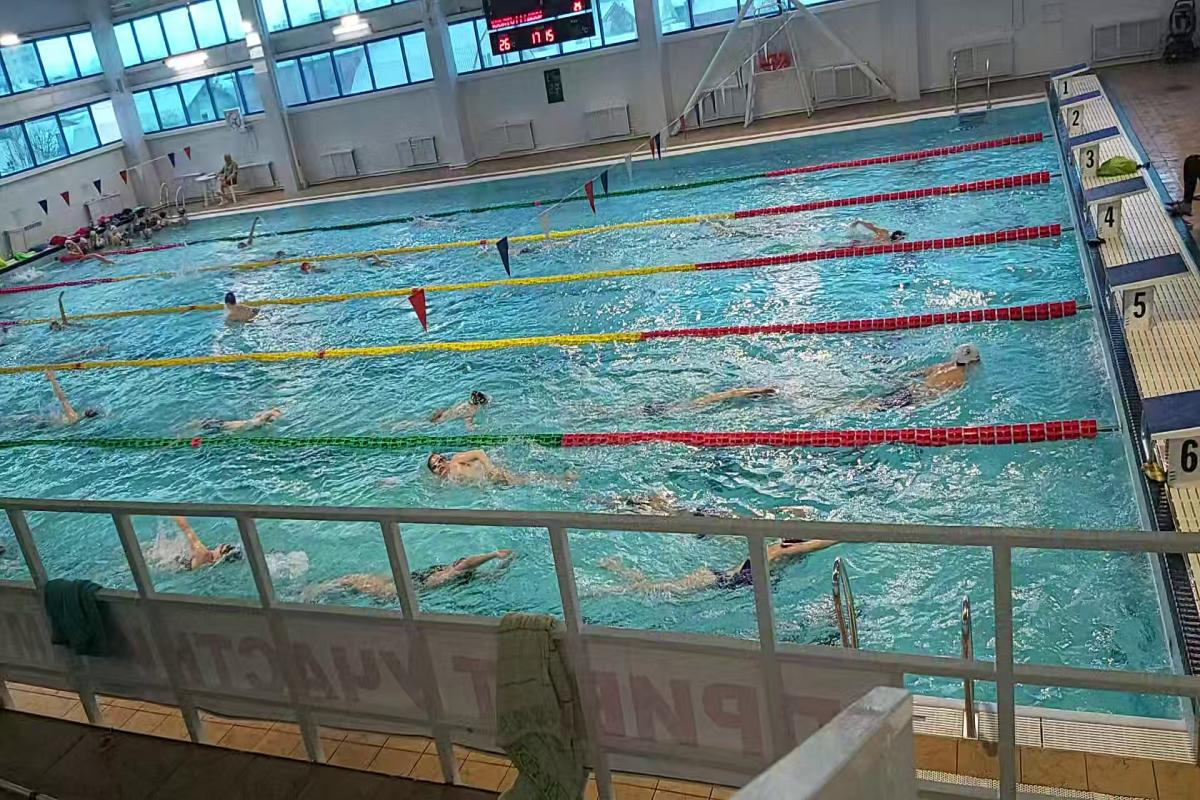swimmer: (832, 333, 994, 426), (582, 538, 744, 609), (408, 444, 570, 496), (598, 380, 780, 424), (419, 540, 525, 602), (402, 373, 502, 435), (21, 385, 113, 436), (187, 389, 283, 432), (162, 526, 246, 574), (216, 291, 270, 329), (47, 296, 94, 333), (851, 212, 908, 242), (358, 254, 401, 270), (300, 258, 336, 274)
